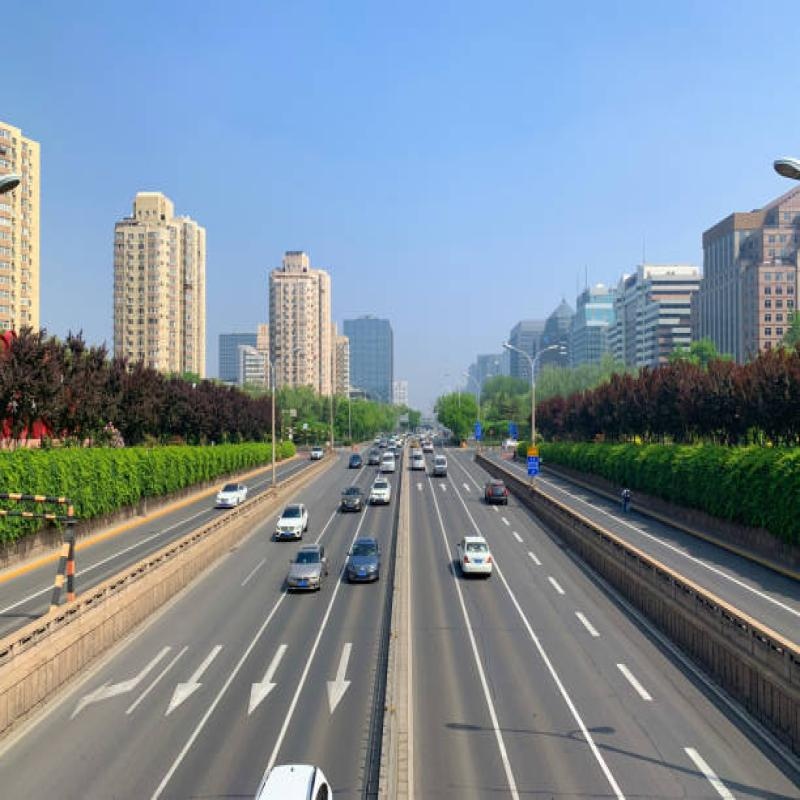car: (284, 531, 327, 603), (455, 527, 498, 599), (274, 492, 314, 550), (340, 533, 381, 585), (217, 468, 250, 514), (481, 475, 513, 514), (427, 446, 455, 486), (343, 483, 370, 517), (370, 479, 396, 508)
